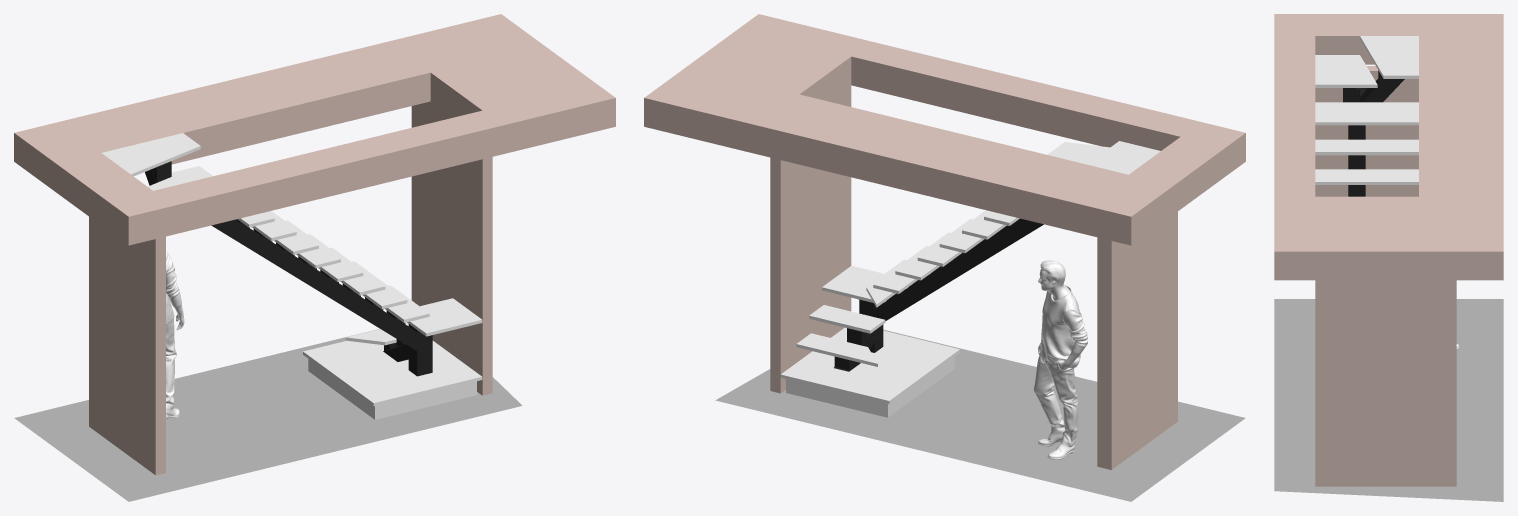
Rendered from H Stair 2.glb.
The picture shows the model from 3 angles, left to right: view 1: azimuth 30°, elevation 25°; view 2: azimuth 150°, elevation 25°; view 3: azimuth 270°, elevation 25°; orthographic projection.
Visible parts, largest first — view 1: Box002, Box005, Object003, Object005, Box006, Box010, Modern_interior_stair_07_002, Box019, 10841_m_Will_100k_001_Retopo, Box009, Modern_interior_stair_07_005; view 2: Box002, Box005, Object003, Object005, Box006, 10841_m_Will_100k_001_Retopo, Box010, Modern_interior_stair_07_002, Box019, Box007, Box009, Box008 (+1 smaller); view 3: Box002, Object005, Box005, Box010, Object003, Box019, Box020, Modern_interior_stair_07_005, Object006.
Boxes of the visible parts, x1=… form: Box002: x1=14, y1=14, x2=615, y2=245; Box005: x1=14, y1=329, x2=522, y2=501; Object003: x1=89, y1=217, x2=165, y2=475; Object005: x1=411, y1=101, x2=492, y2=395; Box006: x1=303, y1=340, x2=482, y2=419; Box010: x1=171, y1=166, x2=429, y2=322; Modern_interior_stair_07_002: x1=211, y1=219, x2=432, y2=376; Box019: x1=102, y1=133, x2=200, y2=176; 10841_m_Will_100k_001_Retopo: x1=166, y1=252, x2=184, y2=418; Box009: x1=407, y1=298, x2=482, y2=336; Modern_interior_stair_07_005: x1=151, y1=161, x2=405, y2=350; Box002: x1=644, y1=14, x2=1245, y2=245; Box005: x1=715, y1=329, x2=1245, y2=501; Object003: x1=1097, y1=211, x2=1177, y2=469; Object005: x1=770, y1=85, x2=851, y2=393; Box006: x1=780, y1=327, x2=959, y2=417; 10841_m_Will_100k_001_Retopo: x1=1033, y1=260, x2=1087, y2=459; Box010: x1=866, y1=210, x2=1019, y2=307; Modern_interior_stair_07_002: x1=834, y1=219, x2=1043, y2=371; Box019: x1=1047, y1=142, x2=1157, y2=174; Box007: x1=796, y1=333, x2=877, y2=366; Box009: x1=822, y1=265, x2=884, y2=302; Box008: x1=809, y1=305, x2=885, y2=333; Box002: x1=1274, y1=14, x2=1503, y2=280; Object005: x1=1315, y1=280, x2=1456, y2=486; Box005: x1=1274, y1=299, x2=1503, y2=501; Box010: x1=1315, y1=102, x2=1418, y2=184; Object003: x1=1315, y1=66, x2=1418, y2=196; Box019: x1=1360, y1=36, x2=1418, y2=78; Box020: x1=1315, y1=55, x2=1377, y2=87; Modern_interior_stair_07_005: x1=1348, y1=70, x2=1384, y2=196; Object006: x1=1360, y1=79, x2=1404, y2=102.
Bounding box in the file's own units: 4.77 × 2.67 × 1.95.
